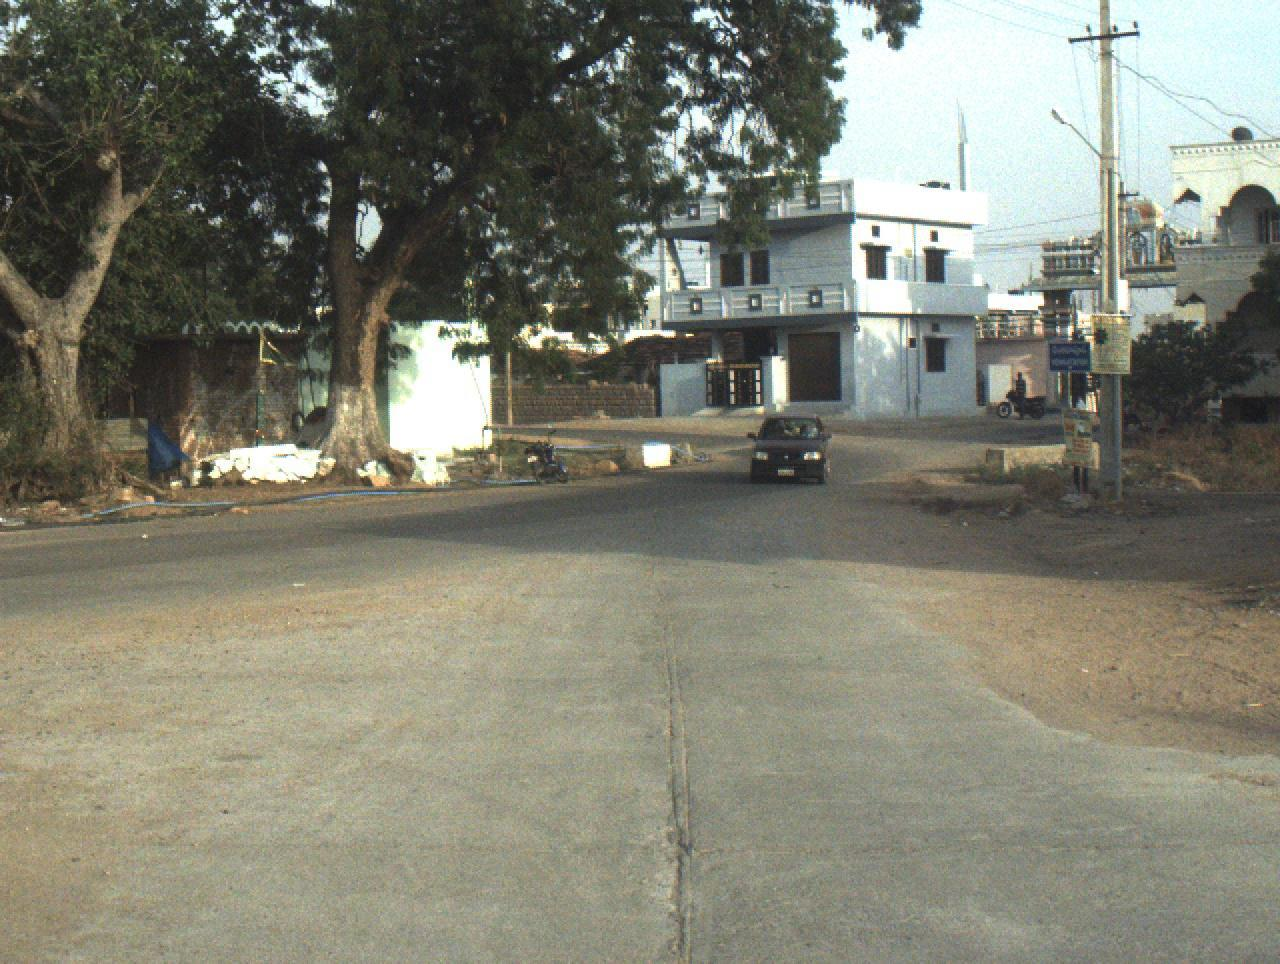off: (55, 0, 1280, 964)
